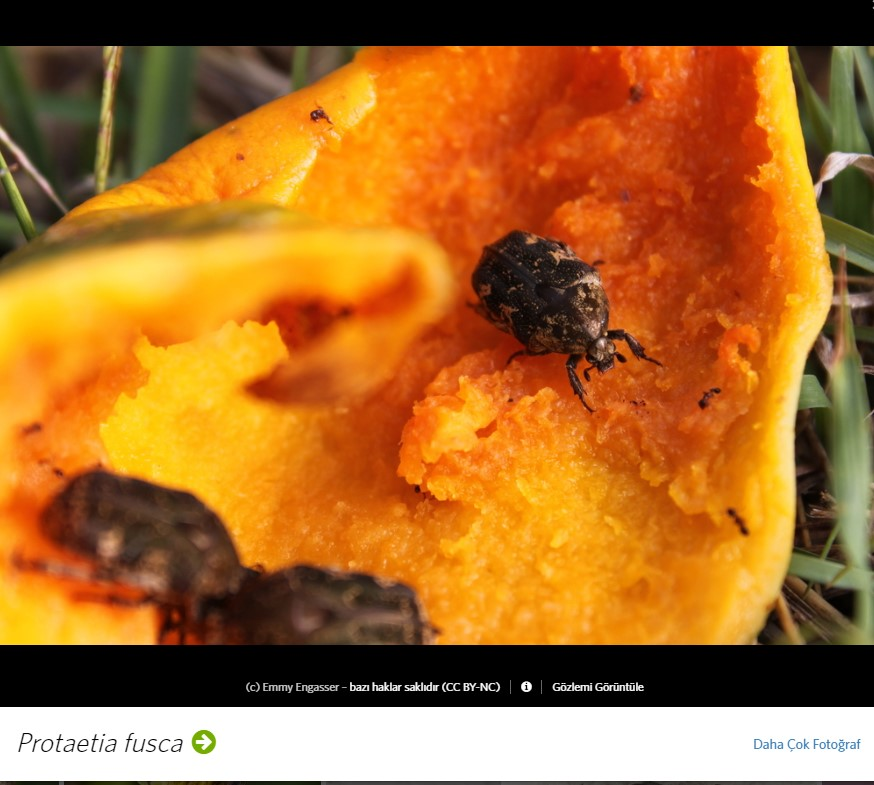Protaetia_fusca: (466, 204, 665, 414)
